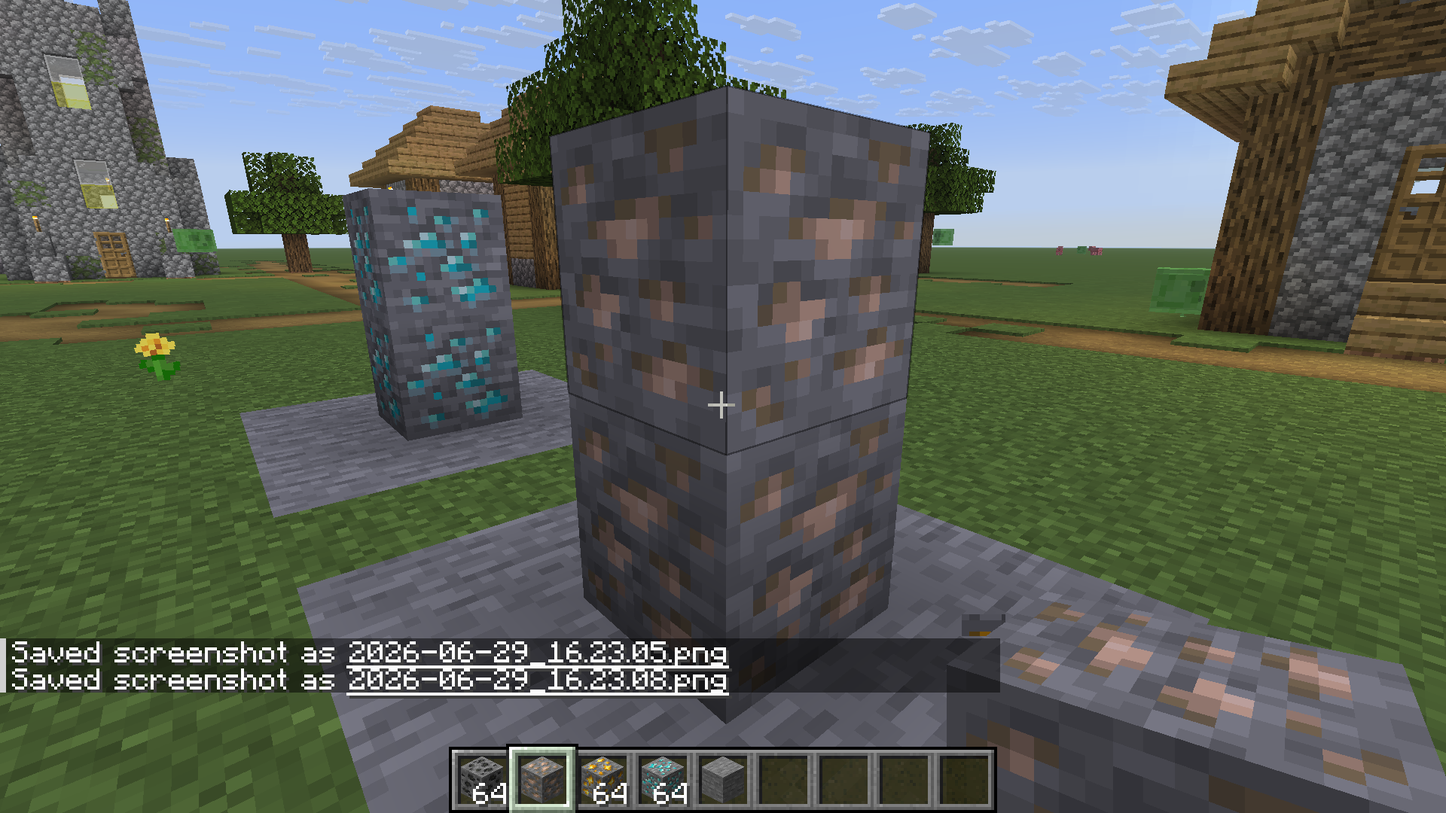diamond ore: (345, 196, 522, 437)
iron ore: (554, 86, 925, 636)
